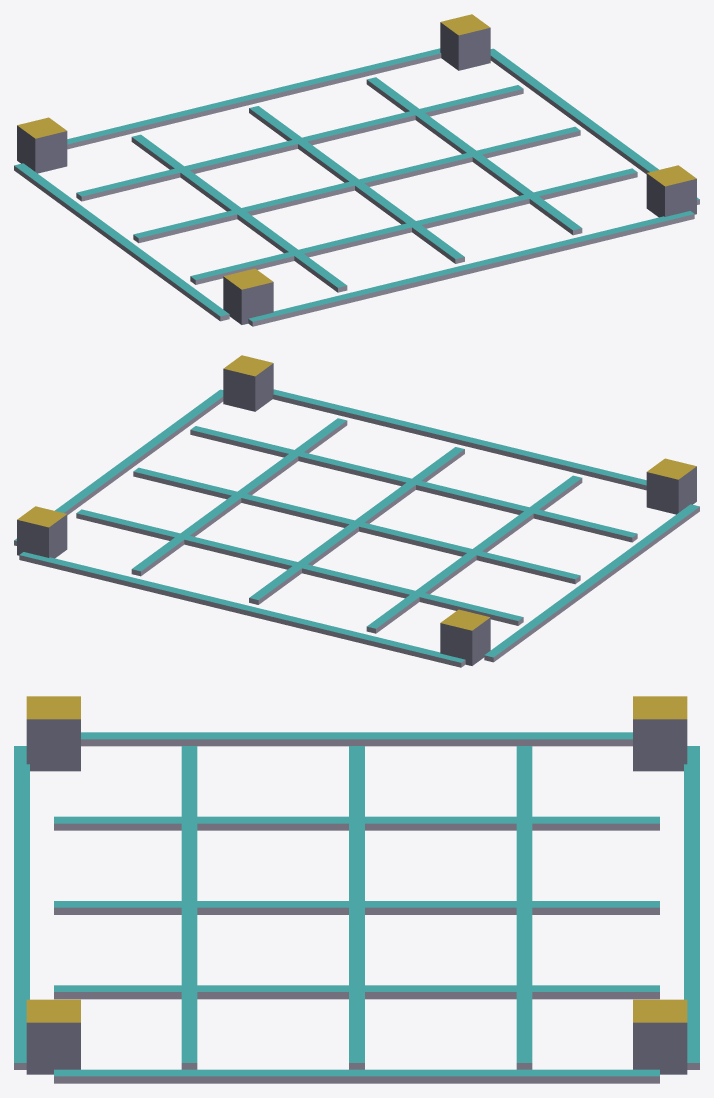
The model's file is star_garden_appearing_marker.obj.
3 views of the same model, one above another, from view 1: azimuth 30°, elevation 25°; view 2: azimuth 150°, elevation 25°; view 3: azimuth 270°, elevation 25° (orthographic). The views are drawn at different scales.
Visible parts, largest first — view 1: star_garden_appearing_marker; view 2: star_garden_appearing_marker; view 3: star_garden_appearing_marker.
Part boxes in pixels (x1,y1,x2,y2): star_garden_appearing_marker: (14, 14, 699, 326); star_garden_appearing_marker: (14, 355, 699, 667); star_garden_appearing_marker: (14, 696, 699, 1083).
Size of the model in its own units: 10.2 by 0.72 by 8.6.
